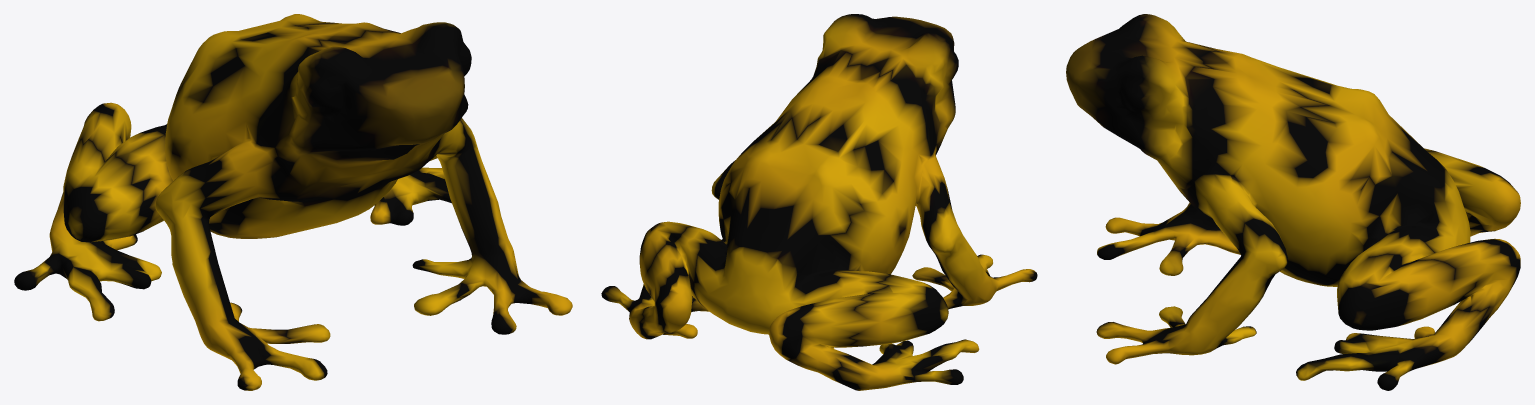
File: leucomelas.lo.glb
The picture shows the model from 3 angles, left to right: view 1: azimuth 30°, elevation 25°; view 2: azimuth 150°, elevation 25°; view 3: azimuth 270°, elevation 25°; orthographic projection. The views are drawn at different scales.
Visible parts, largest first — view 1: leucomelas; view 2: leucomelas; view 3: leucomelas.
Part boxes in pixels (x1,y1,x2,y2): leucomelas: (14, 14, 572, 390); leucomelas: (601, 14, 1037, 390); leucomelas: (1066, 14, 1520, 390).
Bounding box in the file's own units: 0.0449 × 0.0286 × 0.045.
